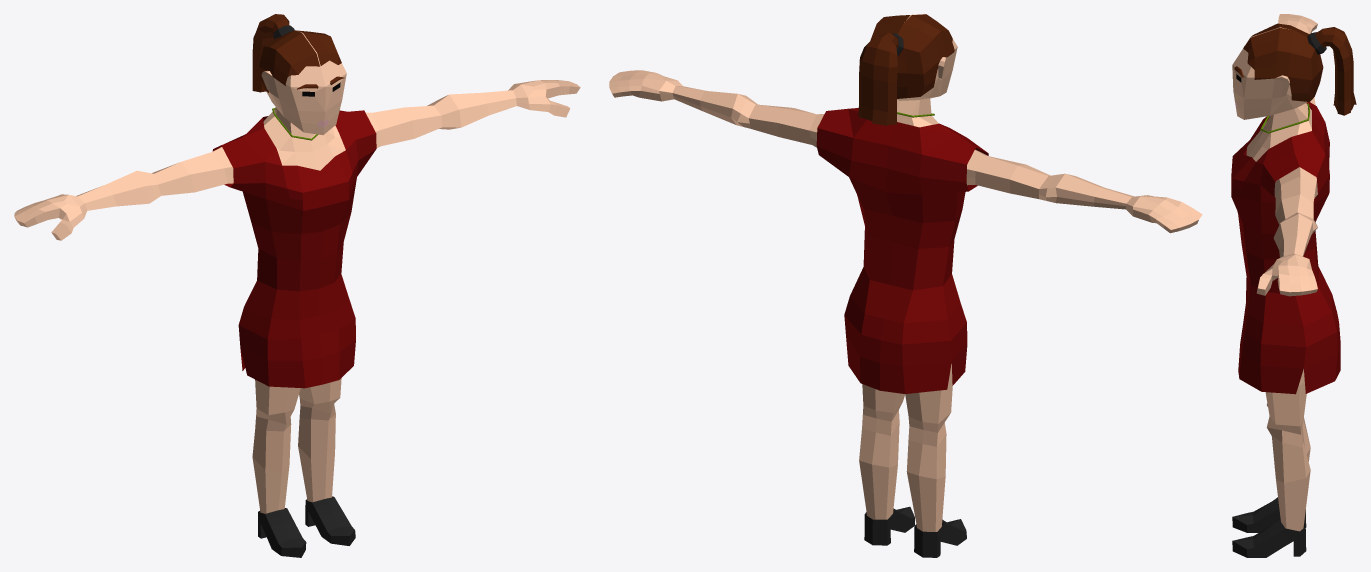
File: NPC_W_C4.fbx
3 renders of one model, left to right at view 1: azimuth 30°, elevation 25°; view 2: azimuth 150°, elevation 25°; view 3: azimuth 270°, elevation 25°, orthographic. The views are drawn at different scales.
Parts seen in each view (by area): view 1: Vestido; view 2: Vestido; view 3: Vestido.
Part boxes in pixels (x1,y1,x2,y2): Vestido: (14, 14, 580, 557); Vestido: (609, 14, 1202, 557); Vestido: (1231, 14, 1356, 557).
Bounding box in the file's own units: 215 × 185 × 40.91.
